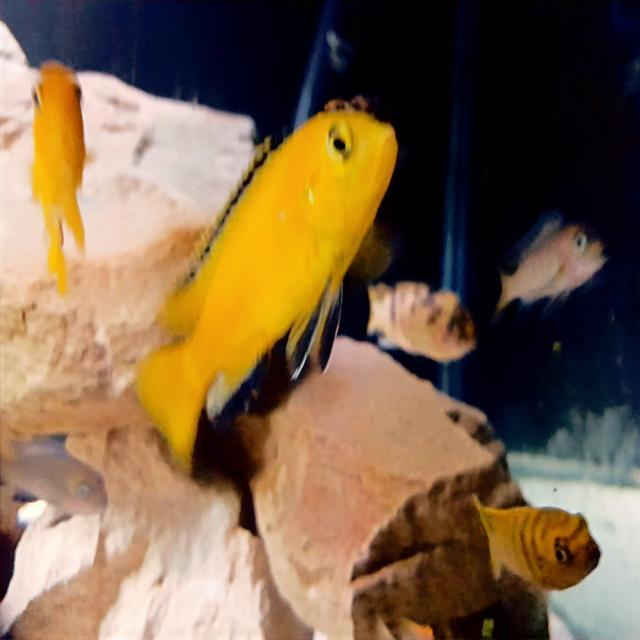YellowCichlid: (148, 36, 406, 490)
